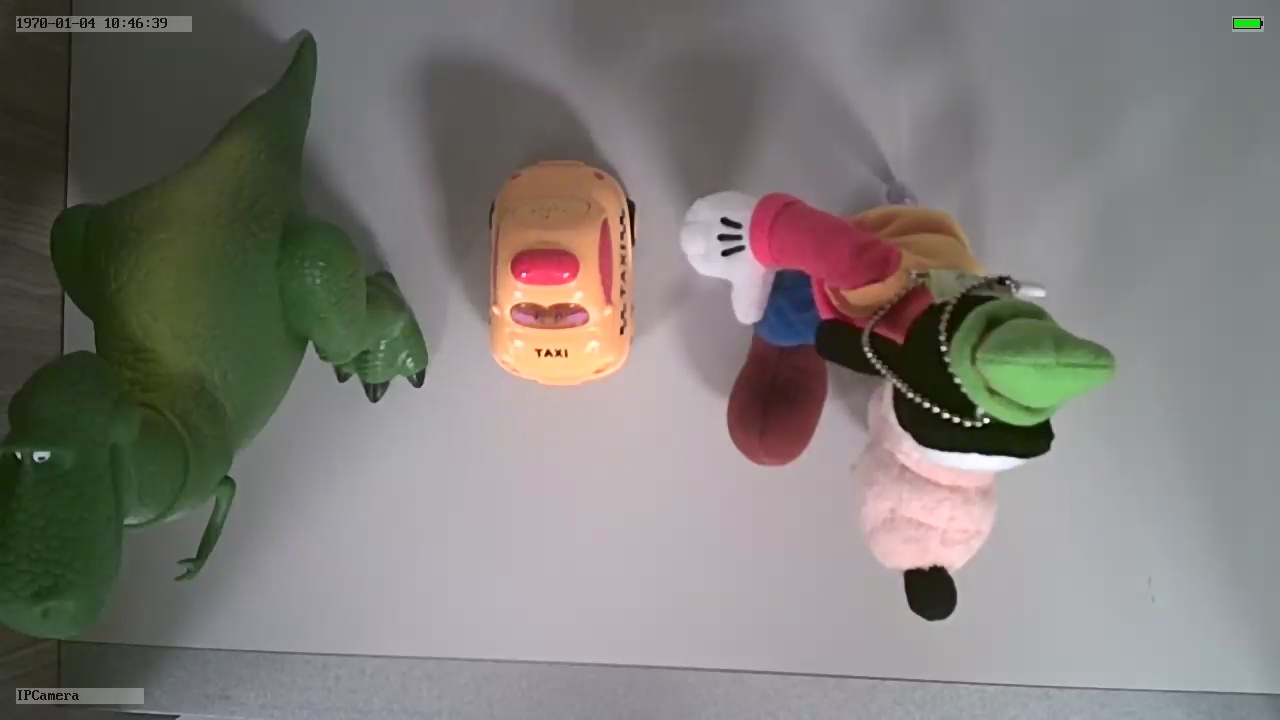car: (477, 151, 640, 392)
goofy: (679, 190, 1118, 630)
rex: (6, 89, 433, 641)
